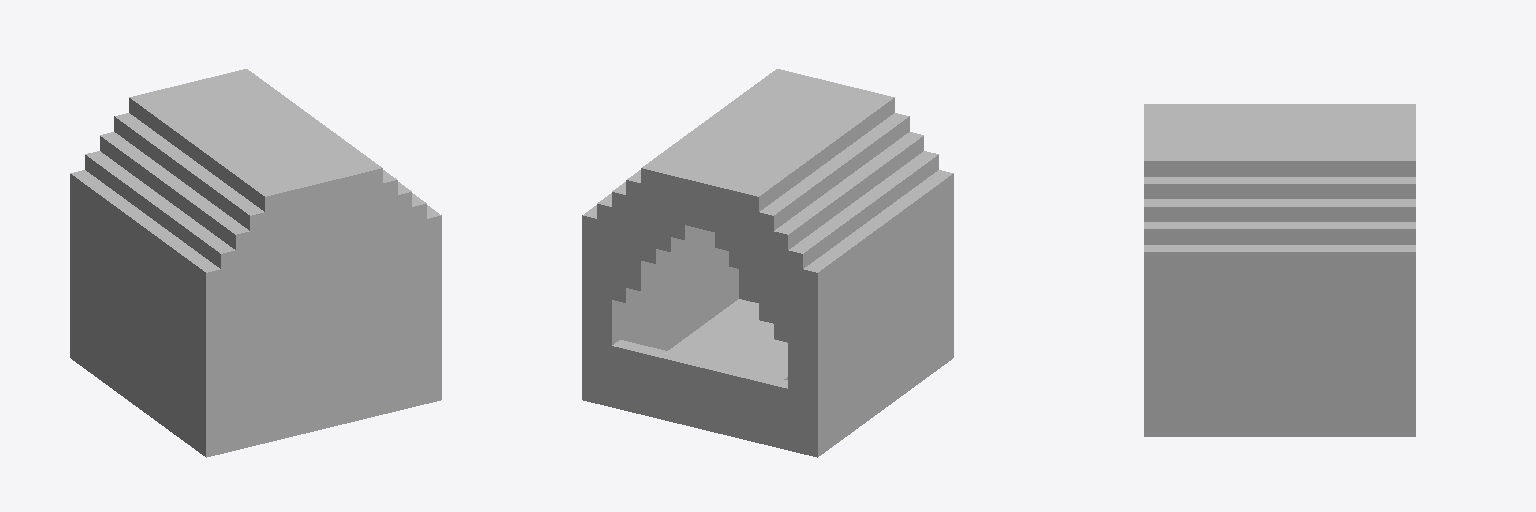
Rendered from glass_furnace.obj.
The picture shows the model from 3 angles: view 1: azimuth 30°, elevation 25°; view 2: azimuth 150°, elevation 25°; view 3: azimuth 270°, elevation 25°; orthographic projection.
Visible parts, largest first — view 1: cube, furnace_10, furnace_0, furnace_1, furnace_3, furnace_5; view 2: furnace_10, furnace_0, cube, furnace_9, furnace_5, furnace_15, furnace_1, furnace_3, furnace_2, furnace_12, furnace_17, furnace_4 (+4 smaller); view 3: furnace_12, furnace_0, furnace_4, furnace_9, furnace_2, cube.
Boxes of the visible parts, <box> form: cube: <box>198,174,441,457</box>; furnace_10: <box>70,170,211,450</box>; furnace_0: <box>129,69,382,242</box>; furnace_1: <box>114,113,255,224</box>; furnace_3: <box>100,132,240,243</box>; furnace_5: <box>85,151,225,261</box>; furnace_10: <box>803,176,944,457</box>; furnace_0: <box>641,69,894,242</box>; cube: <box>612,113,953,434</box>; furnace_9: <box>597,193,738,406</box>; furnace_5: <box>788,157,930,453</box>; furnace_15: <box>656,312,787,439</box>; furnace_1: <box>759,119,900,323</box>; furnace_3: <box>774,138,915,342</box>; furnace_2: <box>626,170,714,290</box>; furnace_12: <box>582,205,596,403</box>; furnace_17: <box>612,299,758,417</box>; furnace_4: <box>612,182,714,302</box>; furnace_12: <box>1161,245,1415,436</box>; furnace_0: <box>1144,104,1415,176</box>; furnace_4: <box>1161,199,1415,221</box>; furnace_9: <box>1161,222,1415,244</box>; furnace_2: <box>1161,177,1415,198</box>; cube: <box>1144,177,1160,436</box>.
Bounding box in the file's own units: 16 × 16 × 16.